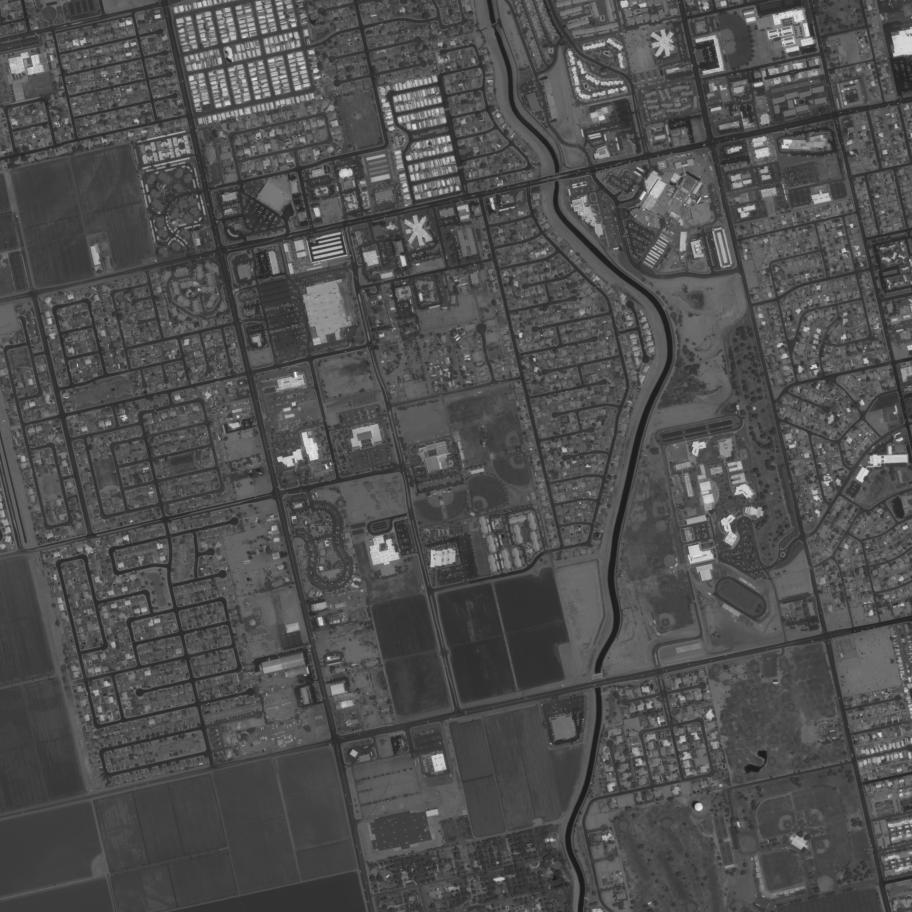storage-tank: (693, 802, 704, 812)
